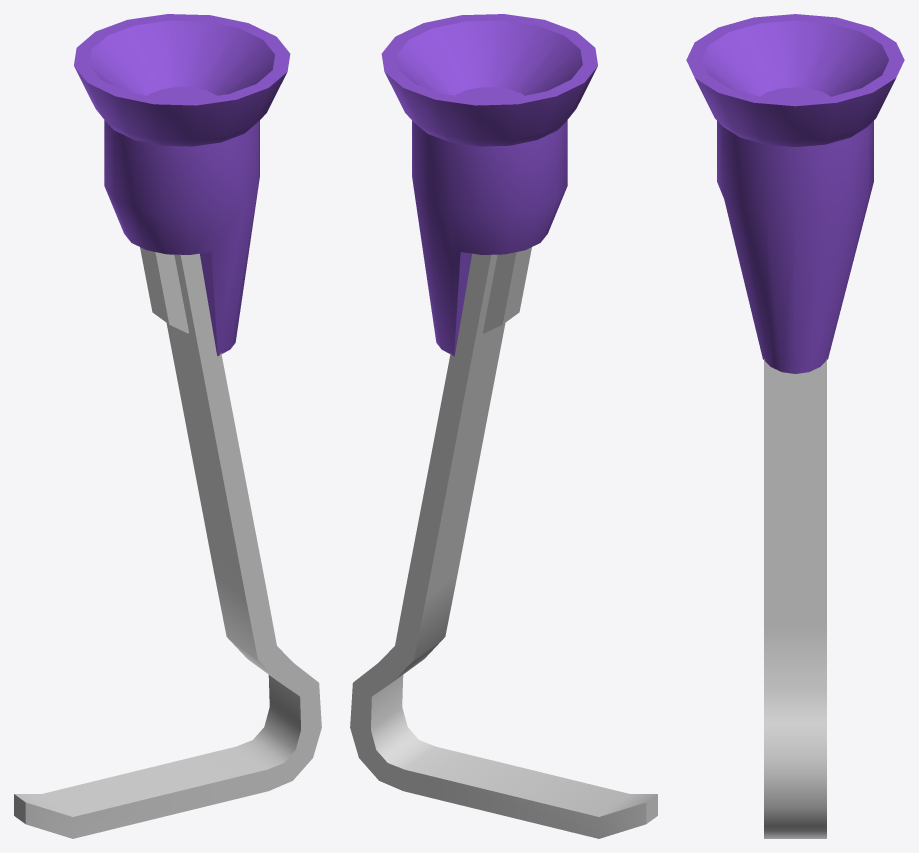
File: Sprinter.glb
3 renders of one model, left to right at view 1: azimuth 30°, elevation 25°; view 2: azimuth 150°, elevation 25°; view 3: azimuth 270°, elevation 25°, orthographic.
Parts seen in each view (by area): view 1: Cylinder, Cube, Cube.001; view 2: Cylinder, Cube, Cube.001; view 3: Cylinder, Cube.
Part boxes in pixels (x1,y1,x2,y2): Cylinder: (74,14,290,355); Cube: (14,253,321,838); Cube.001: (140,247,188,333); Cylinder: (381,14,597,355); Cube: (350,253,657,838); Cube.001: (483,247,531,333); Cylinder: (686,14,904,373); Cube: (764,358,826,838).
Bounding box in the file's own units: 0.3627 × 0.8923 × 0.2396.
